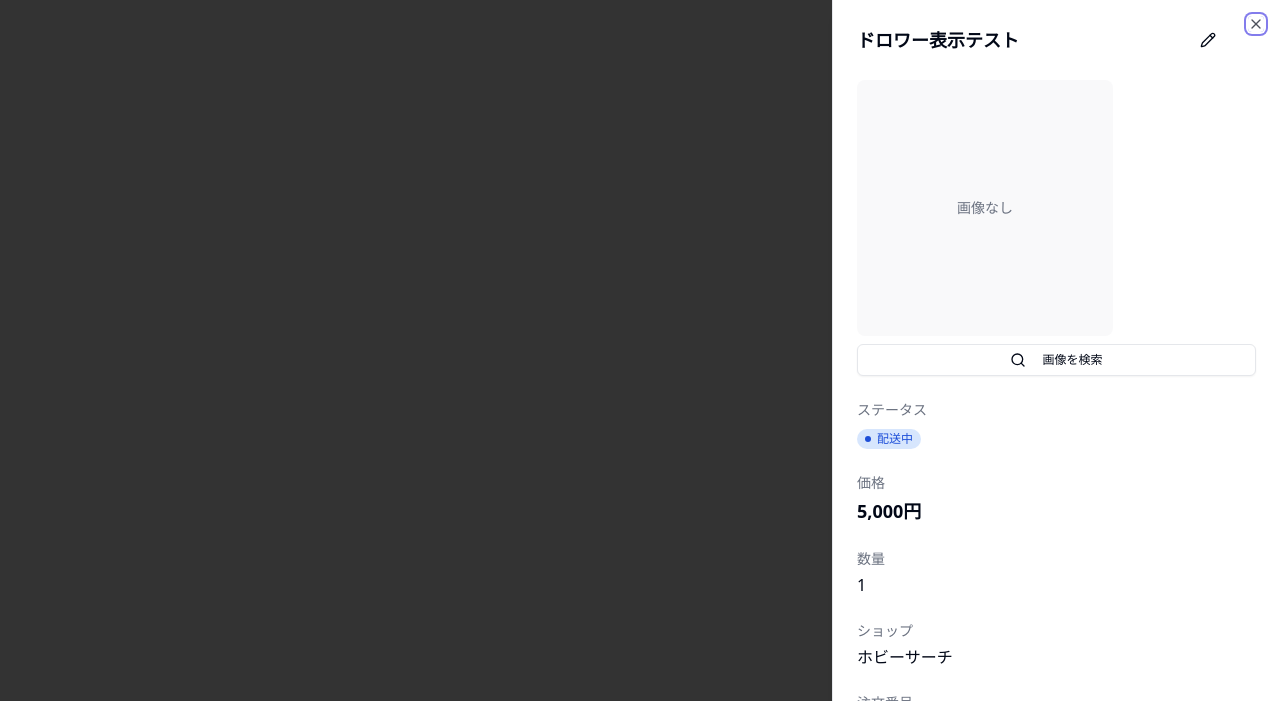
Test case: OrderItemDrawer › handleSave - Validation › shows error when price is negative
This screenshot has width=1280, height=701.
Click the button titled "編集".
click(1208, 40)  # box [1192, 24, 1224, 56]
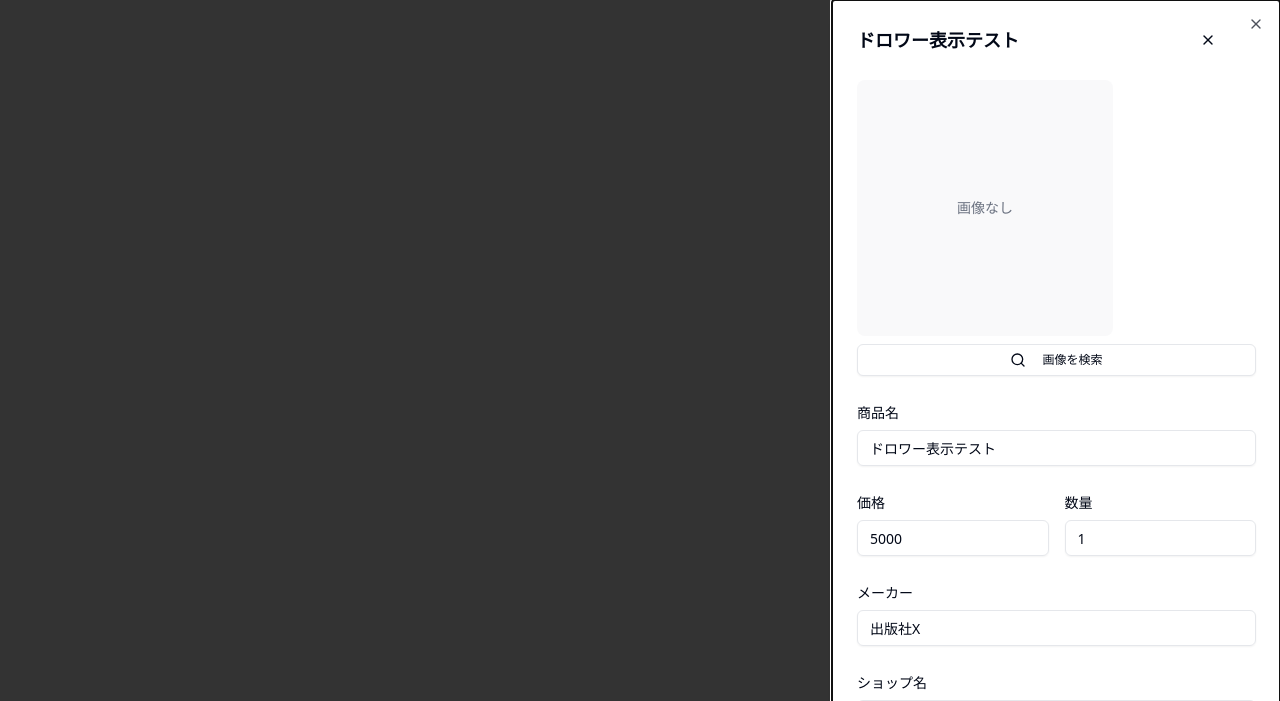
Replace the text in the number field labelled "価格" with "-100" at {"x": 953, "y": 538}, box [857, 520, 1048, 556]
(page scrolled)
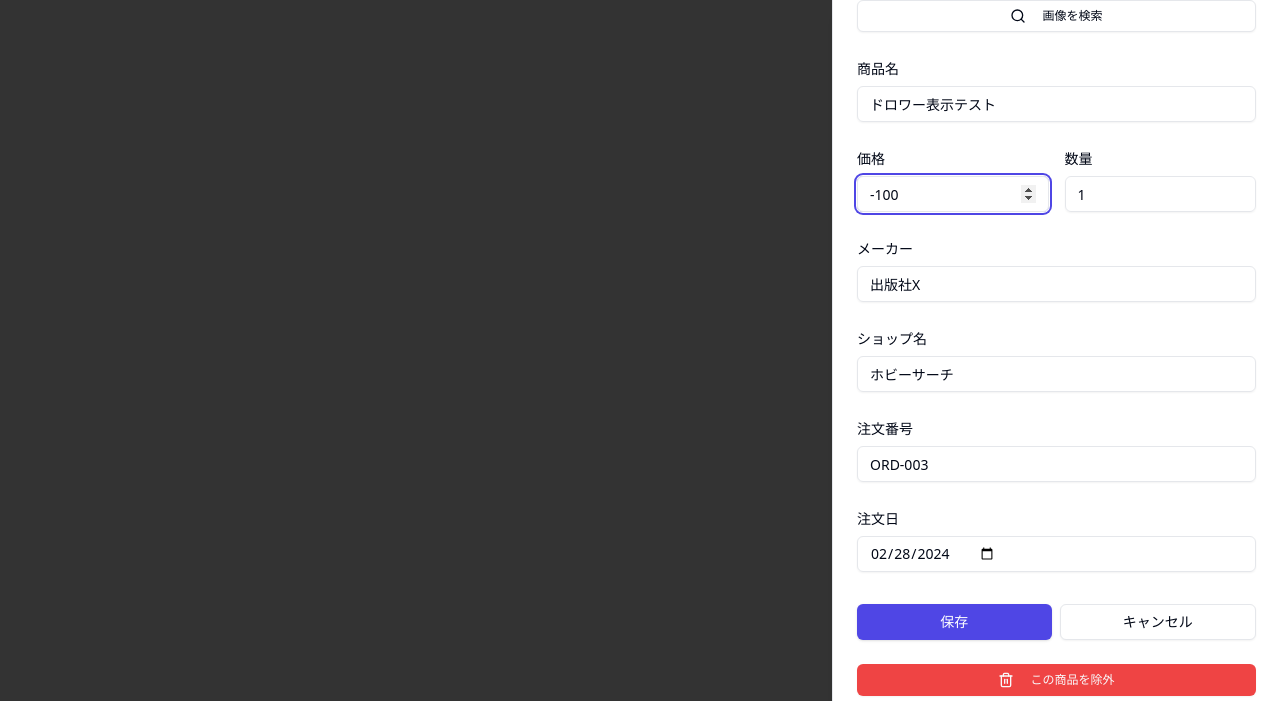
Click the button "保存".
click(954, 622)  # box [857, 604, 1052, 640]
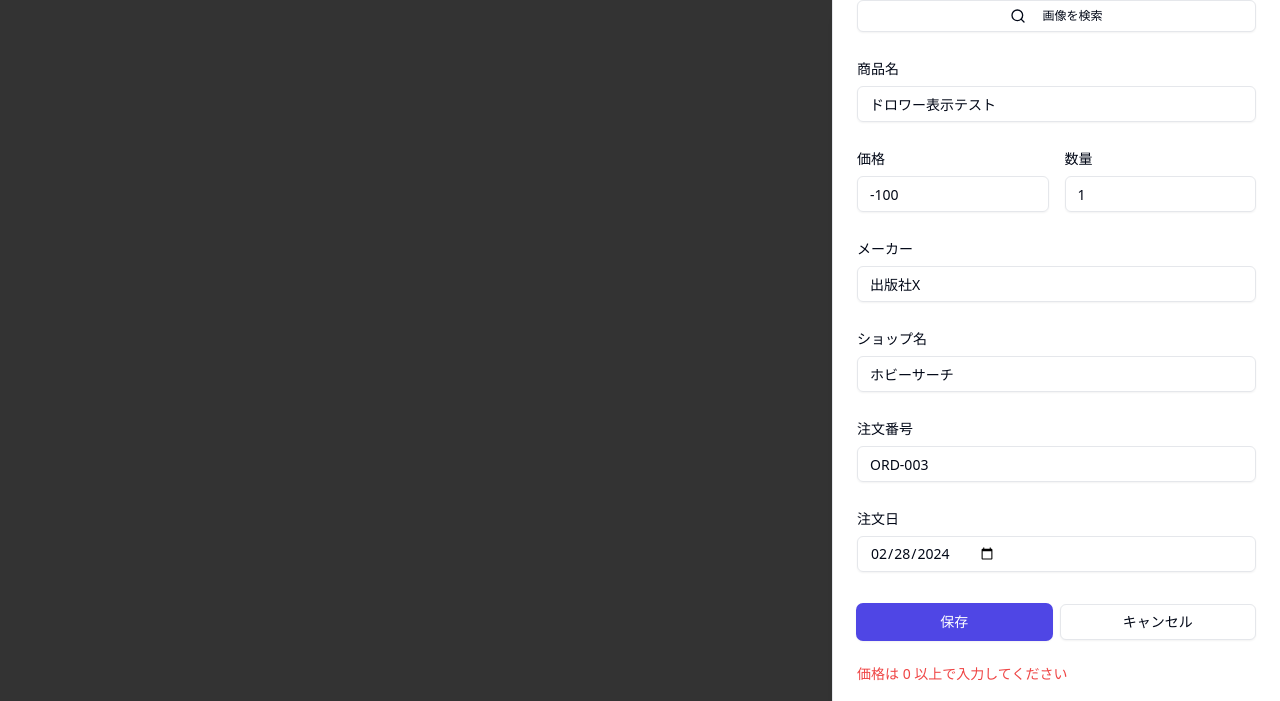
Check: the text "価格は 0 以上で入力してください" is shown, box [857, 664, 1068, 683]
